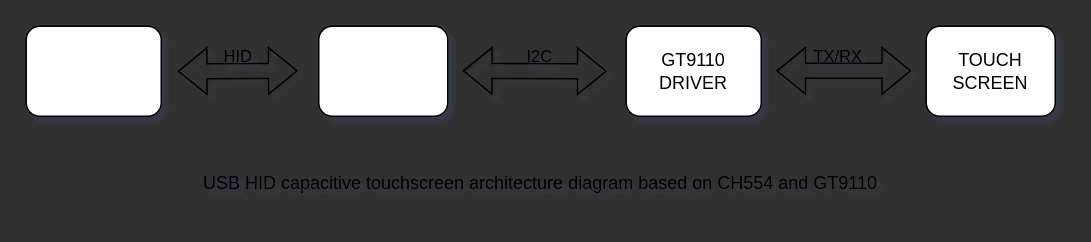
Some shapes in this 1091 by 242 pixel diagram are drawn without their labels. The centre of each missing label's shape, as x and y in pixels:
"CH554 CONTROLLER" belongs at pixel 382 70.
"USB" belongs at pixel 93 70.
